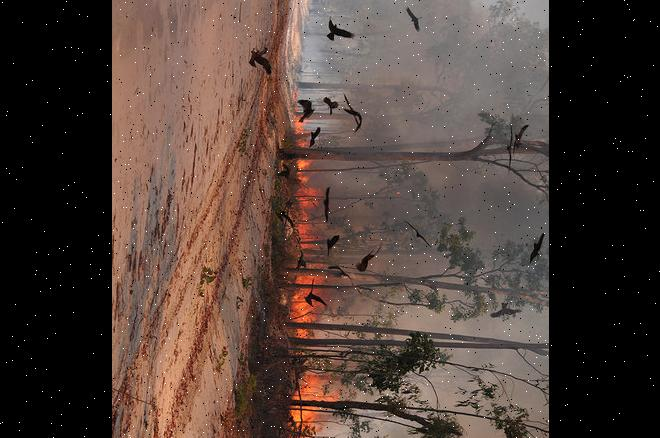fire: (264, 104, 340, 438)
